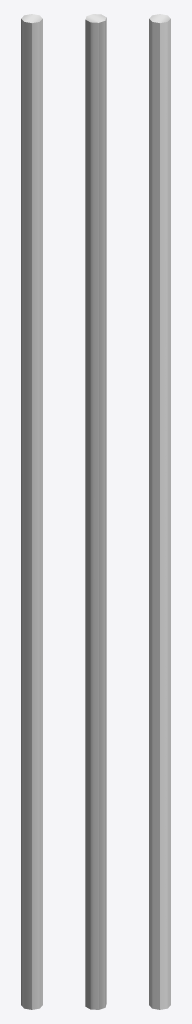
The model's file is flag-pole-short.obj.
3 renders of one model, left to right at view 1: azimuth 90°, elevation 25°; view 2: azimuth 150°, elevation 25°; view 3: azimuth 270°, elevation 25°, orthographic.
Parts seen in each view (by area): view 1: Cylinder; view 2: Cylinder; view 3: Cylinder.
Part boxes in pixels (x1,y1,x2,y2): Cylinder: (21,14,42,1009); Cylinder: (85,14,106,1009); Cylinder: (149,14,170,1009).
Size of the model in its own units: 0.04 by 2 by 0.04.
1 material, 1 textured.
